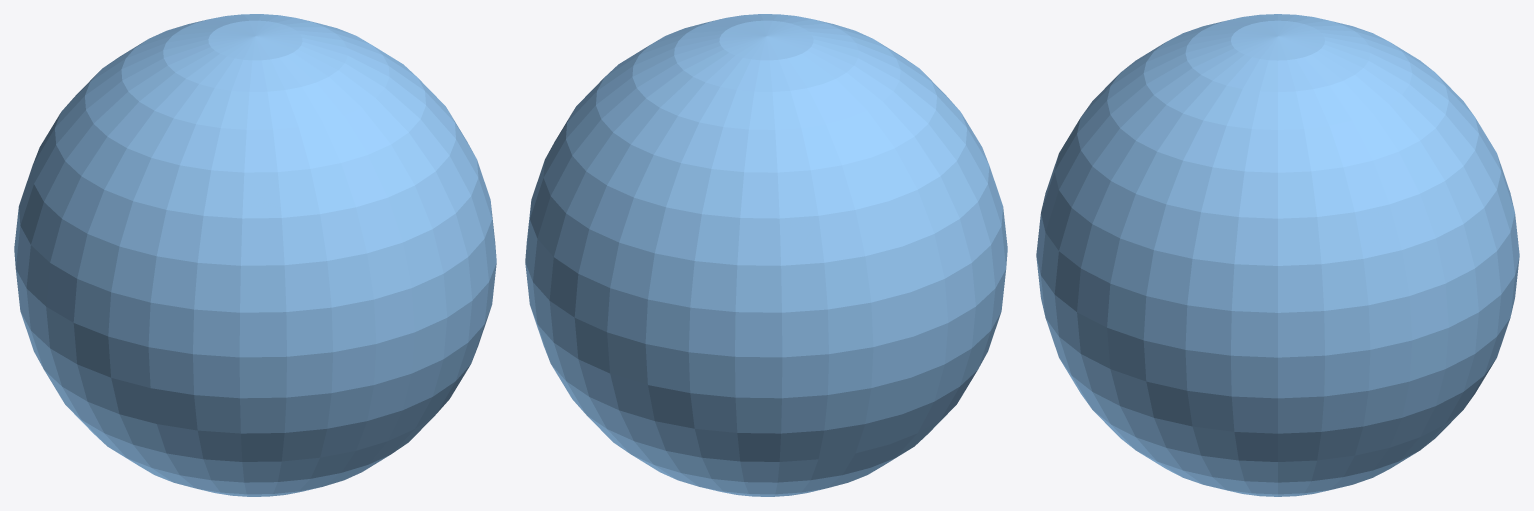
3 views of the same model, side by side, from view 1: azimuth 30°, elevation 25°; view 2: azimuth 150°, elevation 25°; view 3: azimuth 270°, elevation 25° (orthographic).
Visible parts, largest first — view 1: -6.000; view 2: -6.000; view 3: -6.000.
Part boxes in pixels (<box>): -6.000: <box>14,14,496,496</box>; -6.000: <box>525,14,1007,496</box>; -6.000: <box>1036,14,1519,496</box>.
Size of the model in its own units: 0.0456 by 0.0456 by 0.0456.
